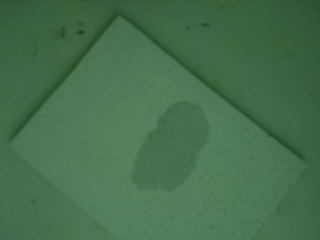Water_detected: (149, 109, 195, 185)
